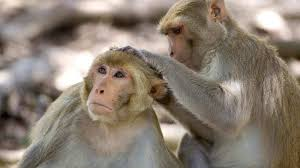monkey: (143, 1, 297, 165), (50, 6, 184, 164)
